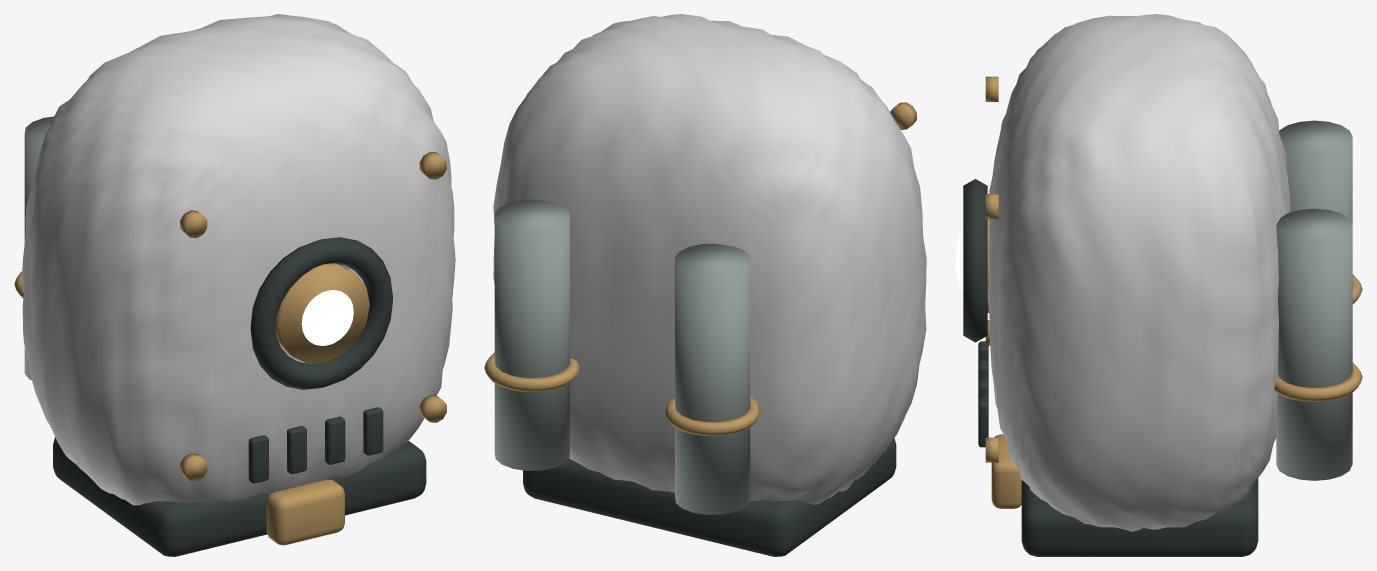
The model's file is deadeye-torso-1.glb.
3 views of the same model, side by side, from view 1: azimuth 30°, elevation 25°; view 2: azimuth 150°, elevation 25°; view 3: azimuth 270°, elevation 25° (orthographic).
Visible parts, largest first — view 1: torso_clay, torso_mechanism, torso_brass, torso_lens, torso_steel; view 2: torso_clay, torso_steel, torso_mechanism, torso_brass; view 3: torso_clay, torso_steel, torso_mechanism, torso_brass.
Part boxes in pixels (left/top/right/bottom): torso_clay: left=22, top=14, right=455, bottom=505; torso_mechanism: left=53, top=237, right=426, bottom=556; torso_brass: left=14, top=152, right=446, bottom=545; torso_lens: left=301, top=290, right=353, bottom=345; torso_steel: left=24, top=116, right=53, bottom=380; torso_clay: left=493, top=14, right=926, bottom=504; torso_steel: left=494, top=199, right=750, bottom=514; torso_mechanism: left=523, top=438, right=896, bottom=556; torso_brass: left=484, top=102, right=916, bottom=436; torso_clay: left=987, top=14, right=1290, bottom=531; torso_steel: left=1276, top=120, right=1352, bottom=480; torso_mechanism: left=963, top=179, right=1258, bottom=556; torso_brass: left=985, top=76, right=1362, bottom=508.
Size of the model in its own units: 1.09 by 1.25 by 1.01.
